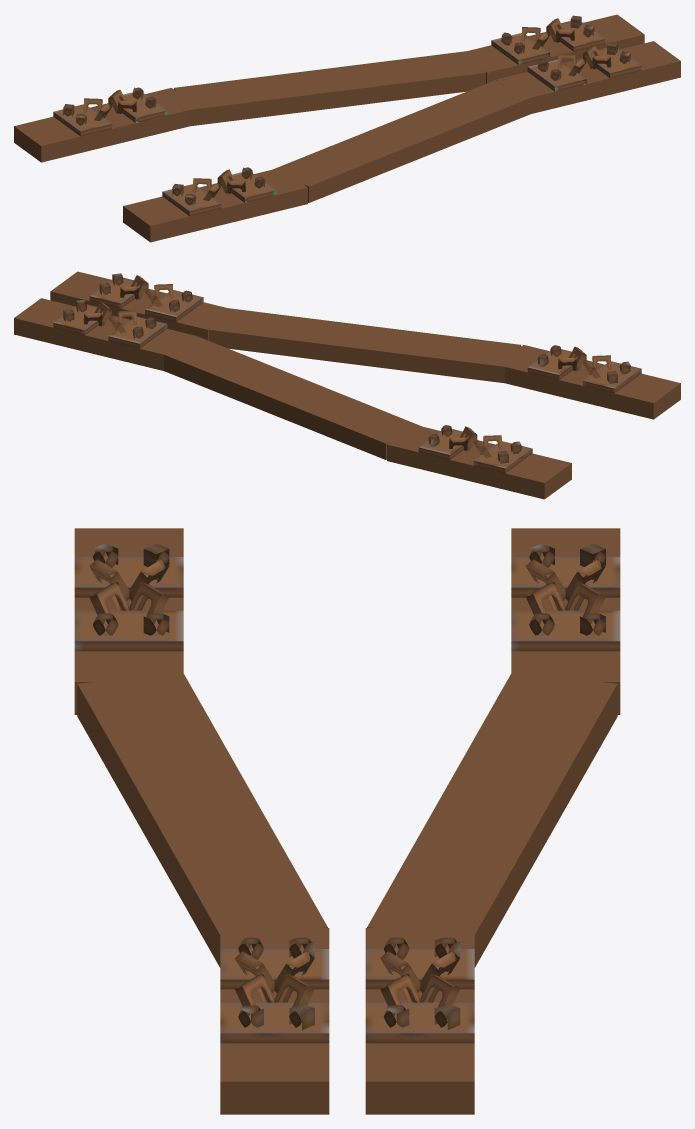
Rendered from ironsleepers.obj.
The picture shows the model from 3 angles, top to bottom: view 1: azimuth 30°, elevation 25°; view 2: azimuth 150°, elevation 25°; view 3: azimuth 270°, elevation 25°; orthographic projection. The views are drawn at different scales.
Parts seen in each view (by area): view 1: cube; view 2: cube; view 3: cube.
Boxes of the visible parts, <box> form: cube: <box>14,14,680,242</box>; cube: <box>14,271,680,499</box>; cube: <box>74,528,620,1114</box>.
Size of the model in its own units: 2.25 by 0.1239 by 0.9375.
Materials: 2 (2 with a texture image).
